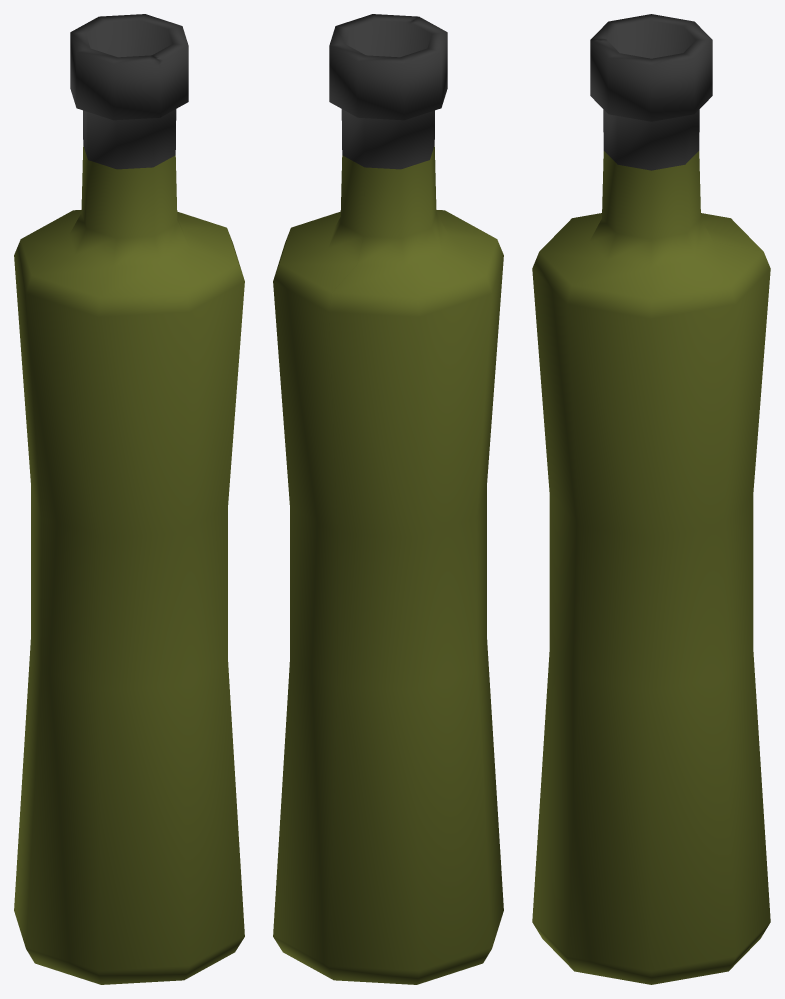
Rendered from olive_oil.fbx.
The picture shows the model from 3 angles, left to right: view 1: azimuth 30°, elevation 25°; view 2: azimuth 150°, elevation 25°; view 3: azimuth 270°, elevation 25°; orthographic projection.
Parts seen in each view (by area): view 1: olive_oil; view 2: olive_oil; view 3: olive_oil.
Part boxes in pixels (left/top/right/bottom): olive_oil: left=14, top=14, right=244, bottom=984; olive_oil: left=273, top=14, right=503, bottom=984; olive_oil: left=532, top=14, right=770, bottom=984.
Size of the model in its own units: 0.0529 by 0.2199 by 0.0529.
